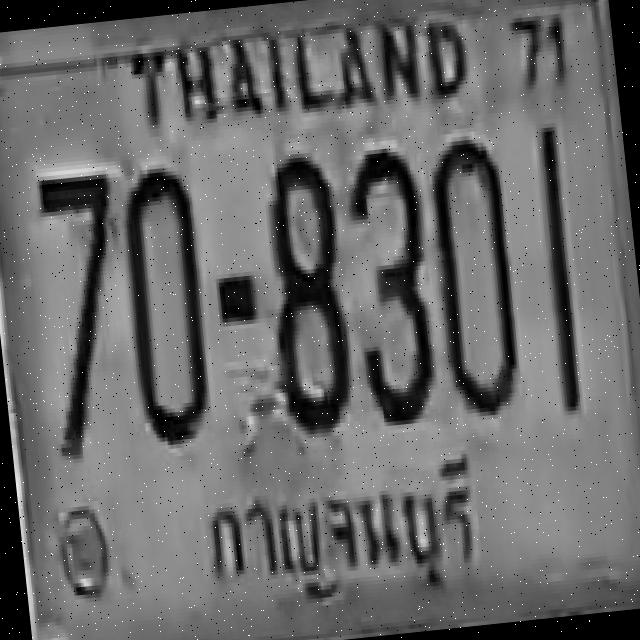0: (114, 159, 215, 445), (424, 133, 524, 414)
1: (530, 118, 584, 412)
3: (338, 142, 439, 424)
7: (31, 168, 136, 458)
8: (254, 148, 356, 430)
Kanchanaburi: (184, 436, 501, 614)
